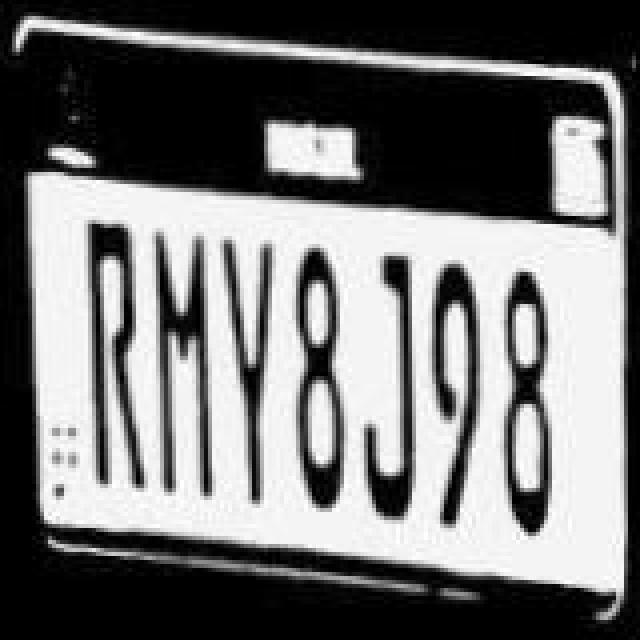8: (292, 252, 356, 520), (500, 276, 564, 540)
9: (426, 266, 494, 534)
J: (354, 262, 430, 530)
M: (150, 230, 222, 506)
R: (82, 220, 146, 492)
Y: (222, 242, 282, 518)
